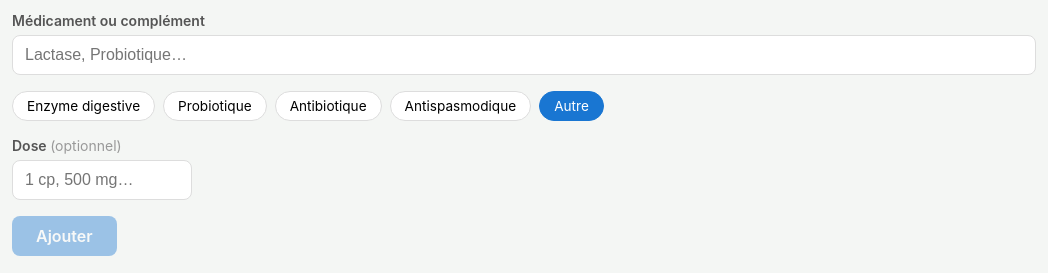
it: MedicationPickerComponent › rendu › devrait activer le bouton Ajouter quand un nom est saisi
The width and height of the screenshot is (1048, 273).
In the field with id "med-name": (524, 55) [12,35,1036,75], type "Lactase"
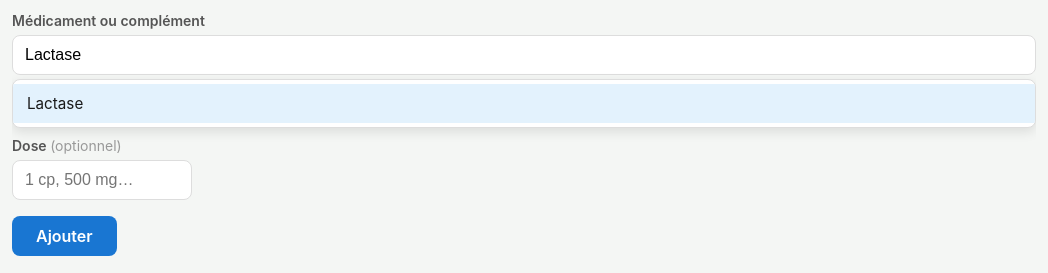
Check: the button with class "medication-picker__add-btn" is enabled, box [12,216,117,256]
